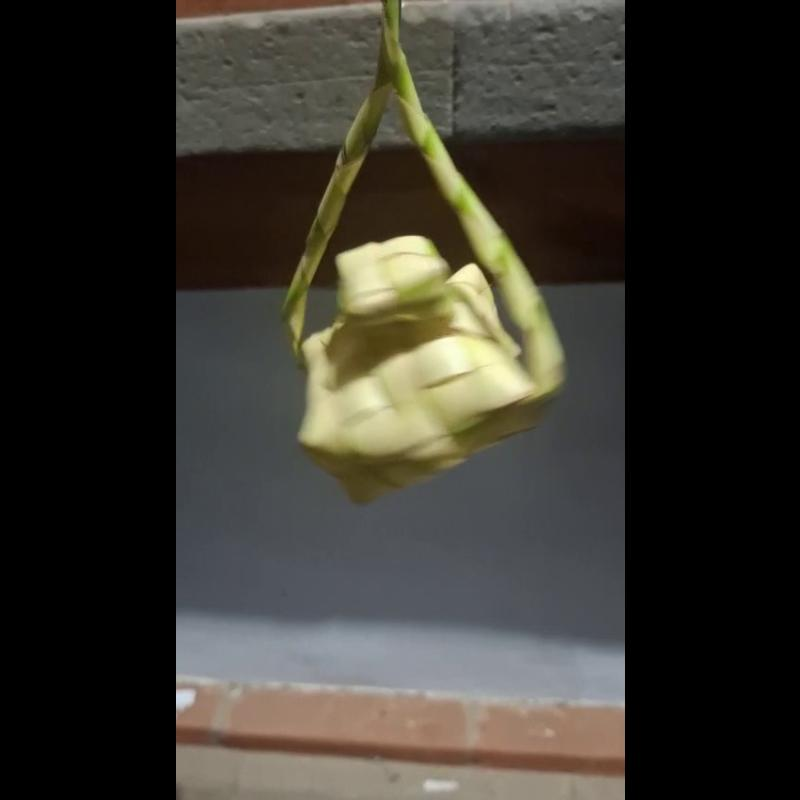Tipat Gong: (279, 0, 563, 513)
